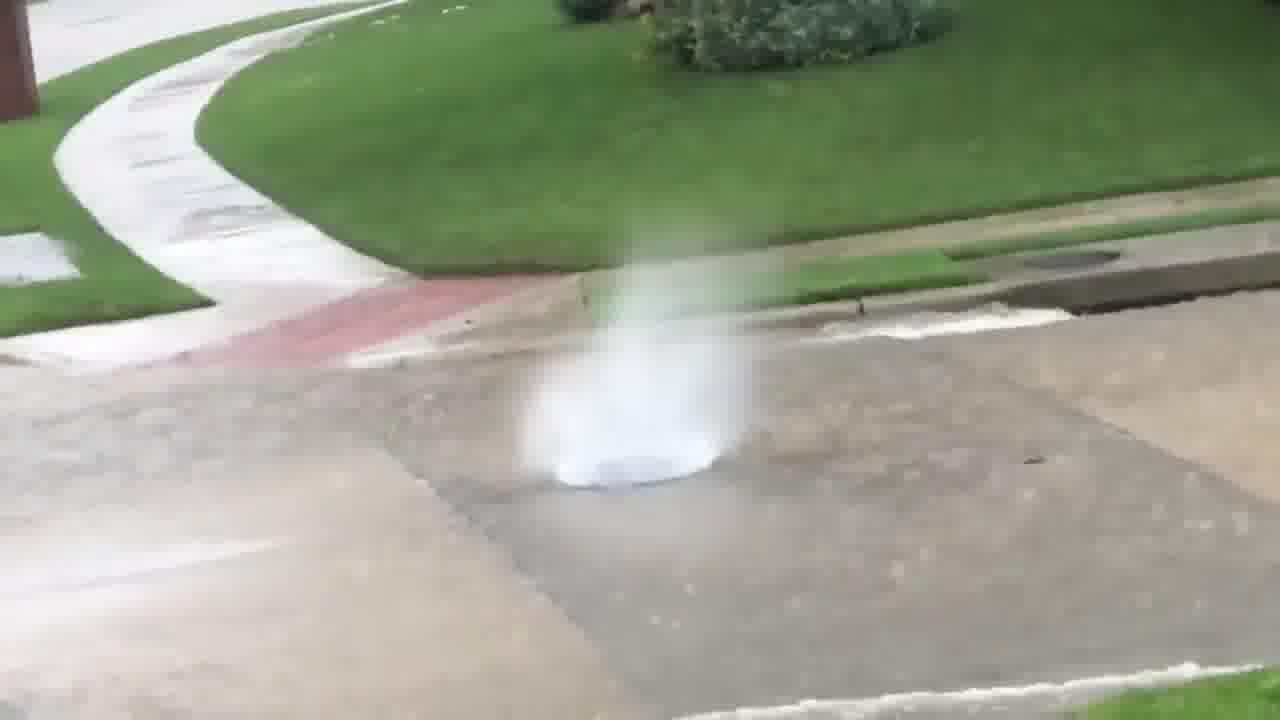drainage overflow-repair-: (513, 310, 739, 492)
